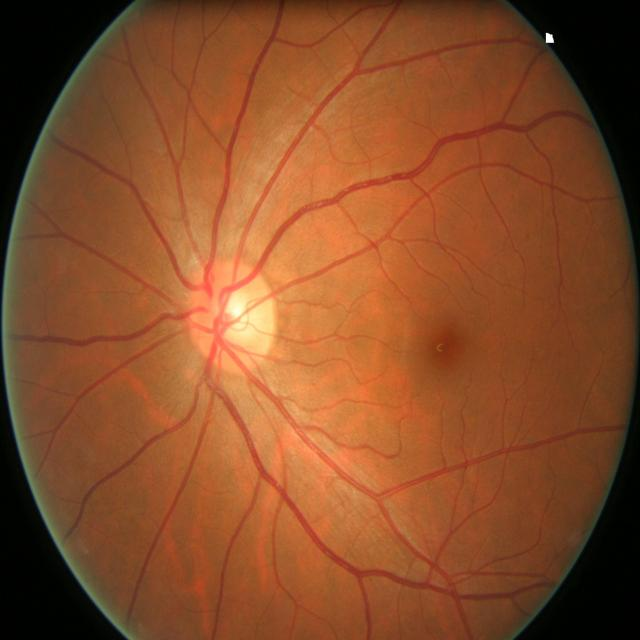OC: (222, 292, 256, 338)
OD: (189, 264, 273, 370)
